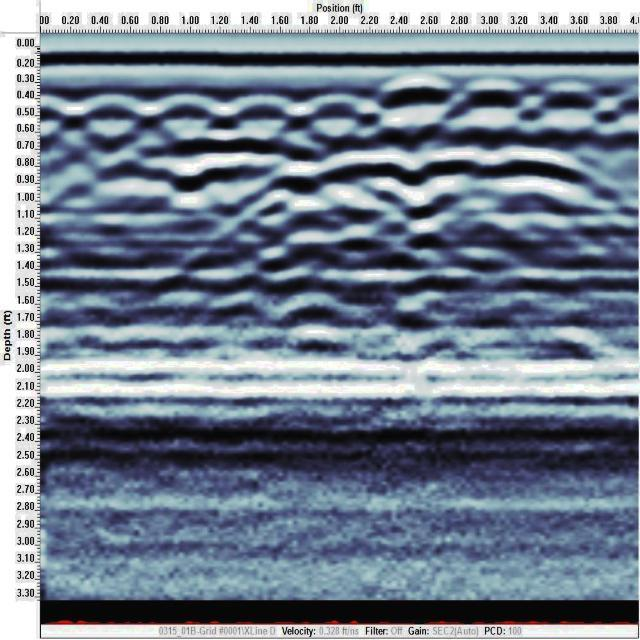hyperbola: (374, 67, 464, 141), (528, 74, 606, 152), (72, 86, 150, 162), (143, 84, 220, 154), (460, 56, 526, 136), (226, 78, 288, 154), (310, 75, 370, 151)
